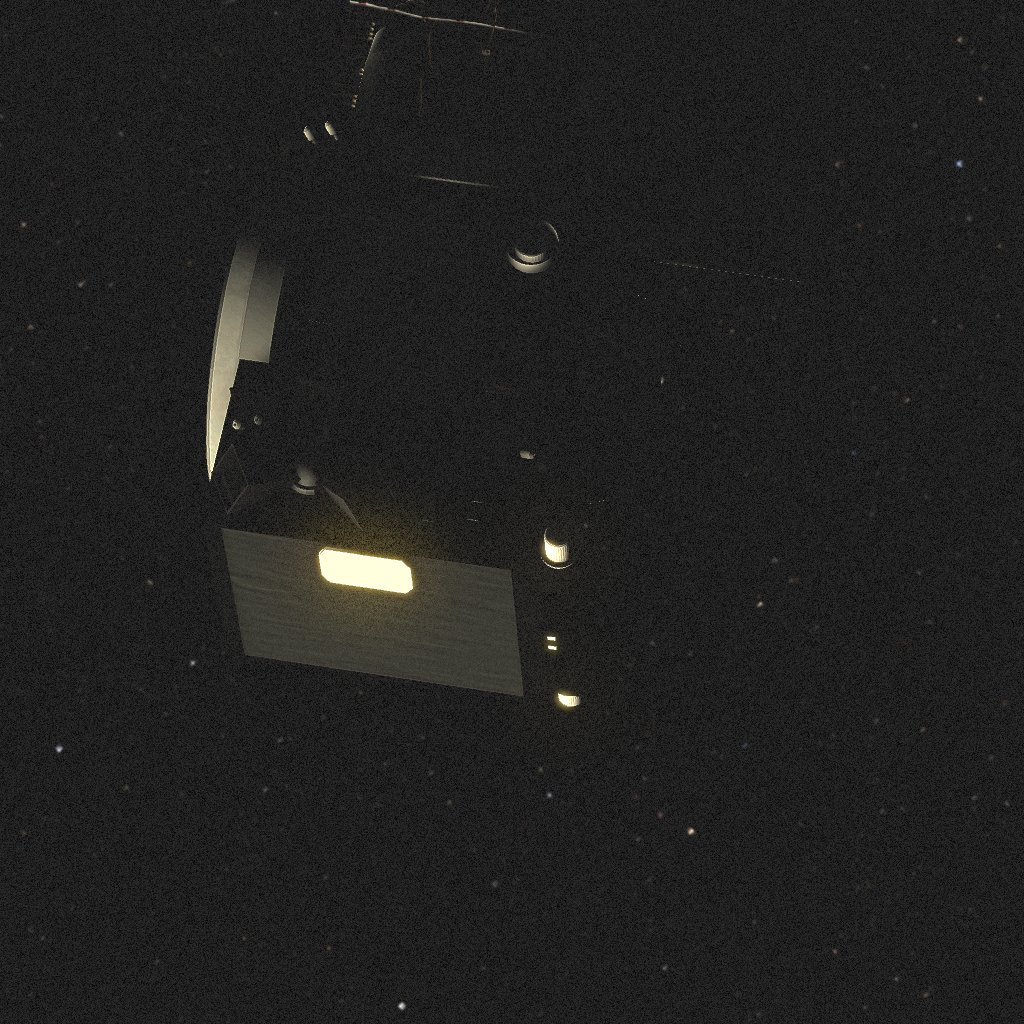proba_3_csc: (201, 0, 858, 706)
